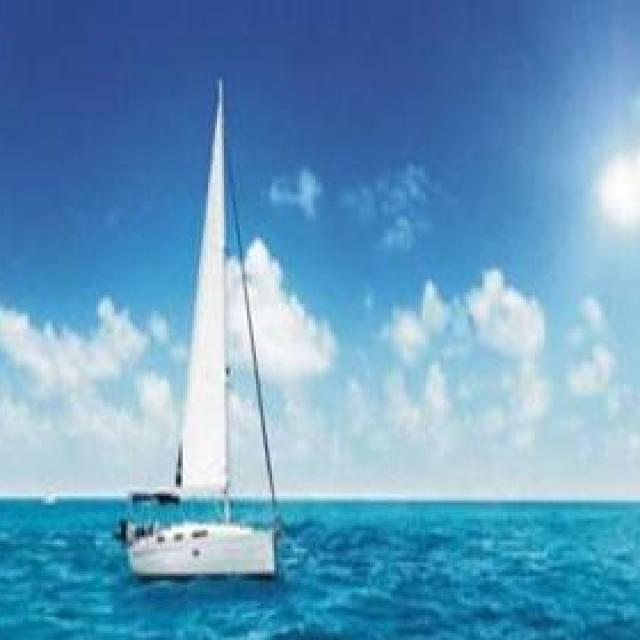sailboat: (115, 62, 300, 594)
